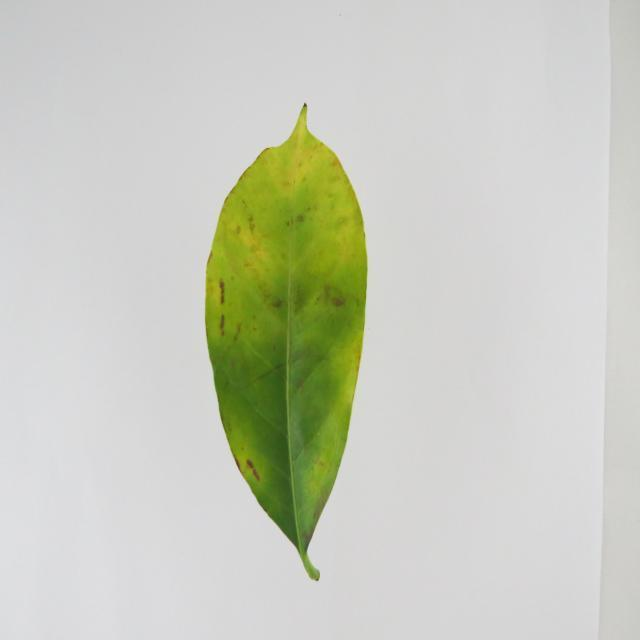DeficienciaNutricional-Nitrogeno: (207, 105, 367, 574)
